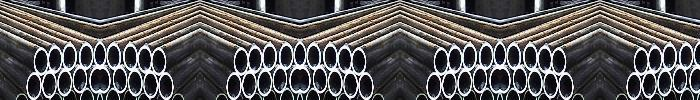pipe: (359, 73, 374, 98), (226, 73, 241, 98), (426, 73, 441, 98), (159, 73, 174, 98), (559, 73, 574, 98), (26, 73, 41, 98), (626, 73, 641, 98), (313, 68, 327, 91), (273, 68, 287, 91), (473, 68, 487, 91), (113, 68, 127, 91), (513, 68, 527, 91), (73, 68, 87, 91), (673, 68, 687, 91), (324, 45, 337, 69), (338, 48, 351, 72), (352, 50, 365, 74), (263, 45, 276, 69), (463, 45, 476, 69), (124, 45, 137, 69), (524, 45, 537, 69), (63, 45, 76, 69), (663, 45, 676, 69), (249, 48, 262, 72), (449, 48, 462, 72), (138, 48, 151, 72), (538, 48, 551, 72), (49, 48, 62, 72), (649, 48, 662, 72), (235, 50, 248, 74), (435, 50, 448, 74), (152, 50, 165, 74), (552, 50, 565, 74), (35, 50, 48, 74), (635, 50, 648, 74), (308, 44, 320, 69), (280, 44, 292, 69), (480, 44, 492, 69), (108, 44, 120, 69), (508, 44, 520, 69), (80, 44, 92, 69), (680, 44, 692, 69), (344, 73, 357, 96), (243, 73, 256, 96), (443, 73, 456, 96), (144, 73, 157, 96), (544, 73, 557, 96), (43, 73, 56, 96), (643, 73, 656, 96), (329, 70, 341, 94), (259, 70, 271, 94), (459, 70, 471, 94), (129, 70, 141, 94), (529, 70, 541, 94), (59, 70, 71, 94), (659, 70, 671, 94), (300, 67, 310, 91), (290, 67, 300, 91), (490, 67, 500, 91), (100, 67, 110, 91), (500, 67, 510, 91), (90, 67, 100, 91), (690, 67, 700, 91)
